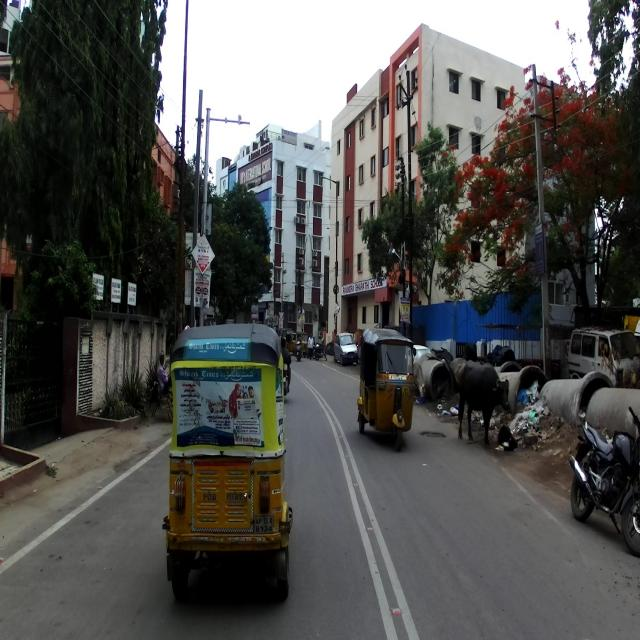autorickshaw: (161, 324, 294, 602), (356, 327, 416, 453)
car: (566, 328, 638, 390)
motorcycle: (568, 405, 639, 556)
